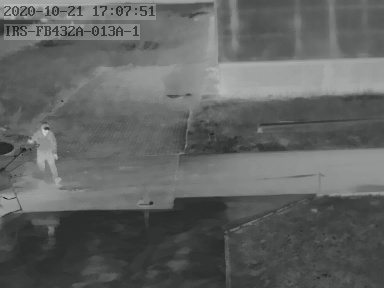person: (33, 124, 63, 179)
